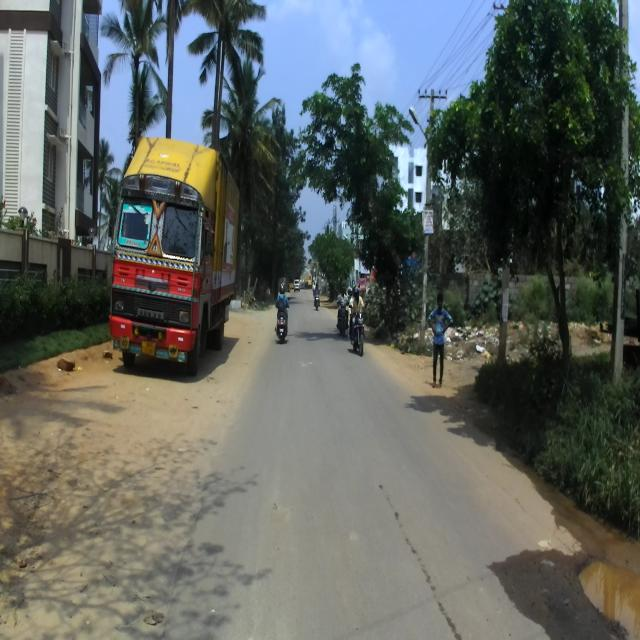person ahead at: (427, 289, 455, 385)
truck ahead at: (114, 135, 242, 383)
